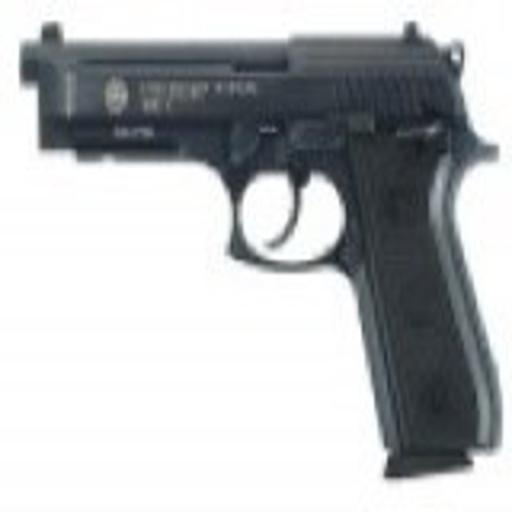Handgun: (11, 20, 504, 485)
